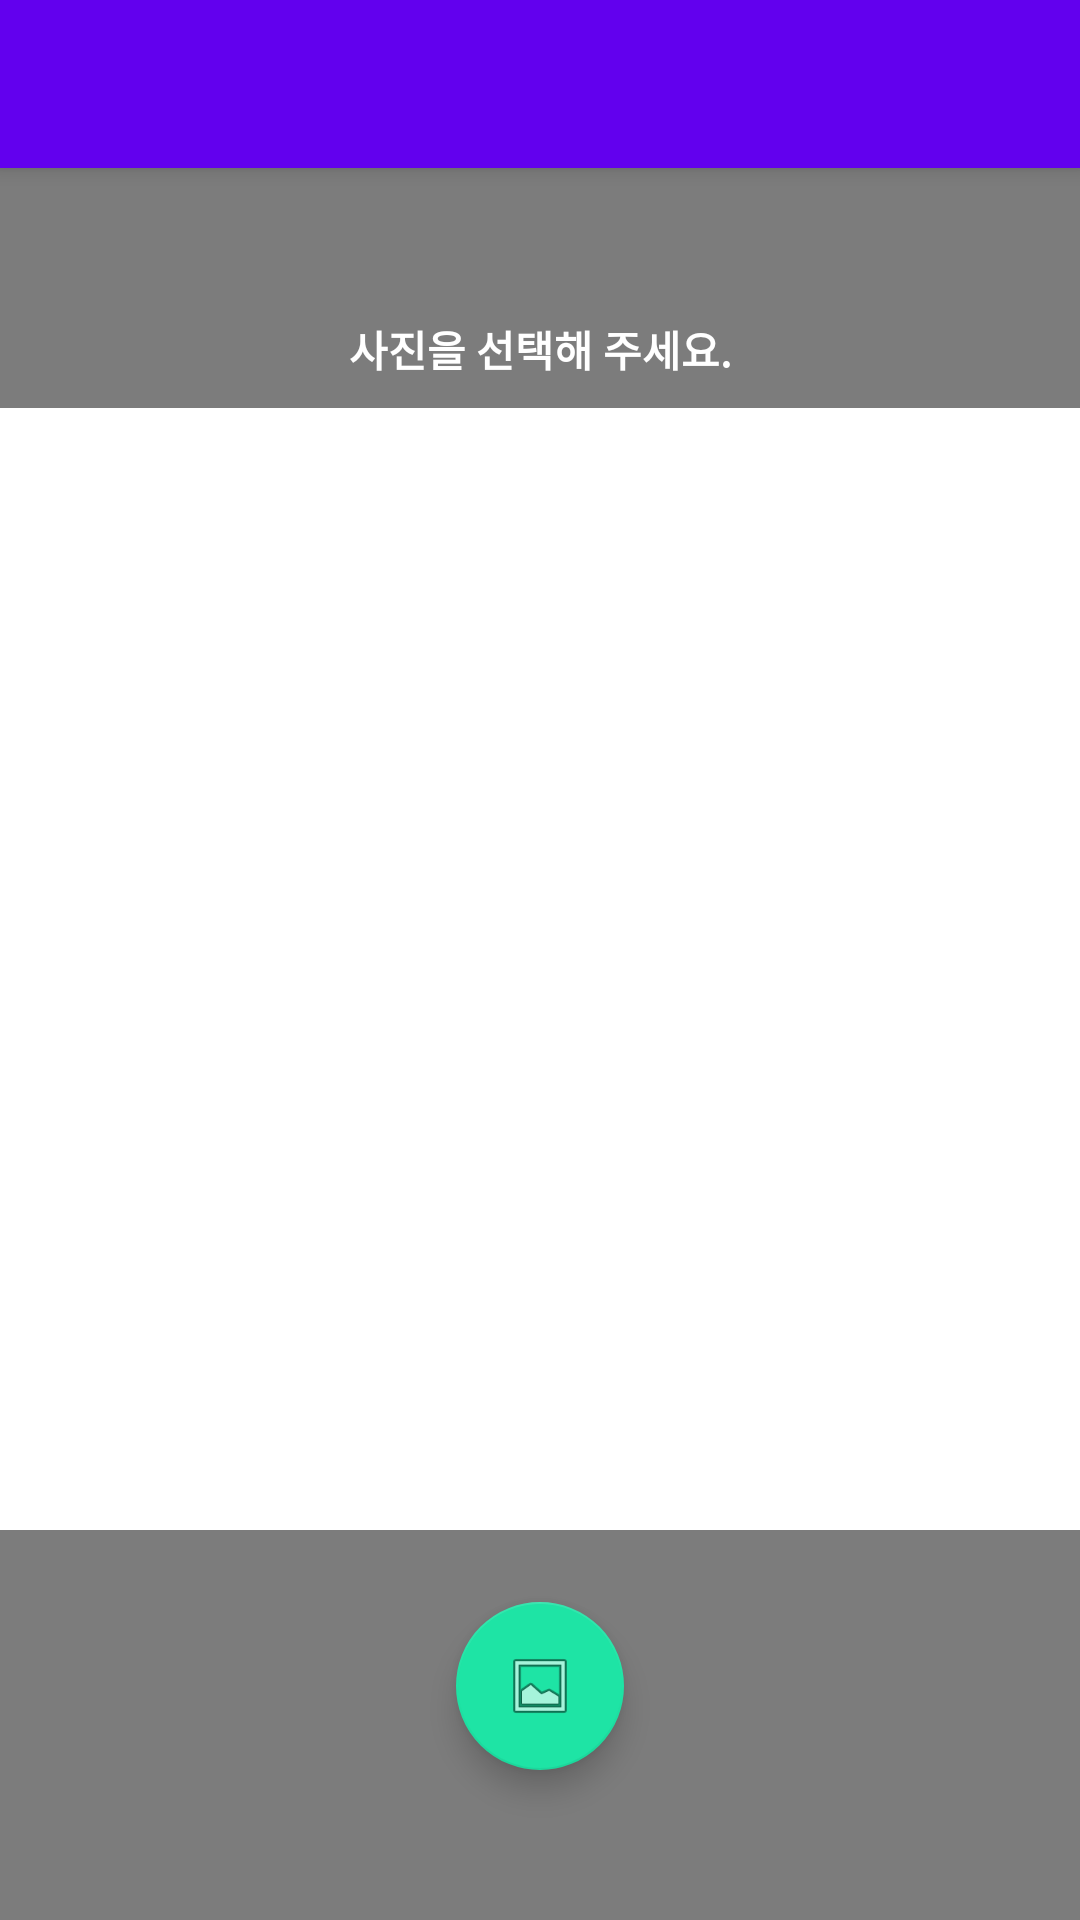

Icons on this 1080×1920 Android screen, each with the point to tap as point (x, y):
gallery: point (540, 1686)
